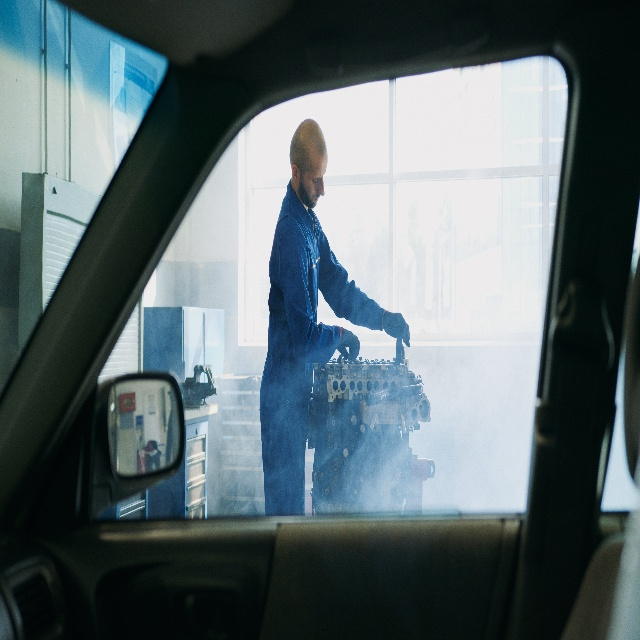Guantes: (382, 310, 411, 347), (337, 326, 361, 361)
